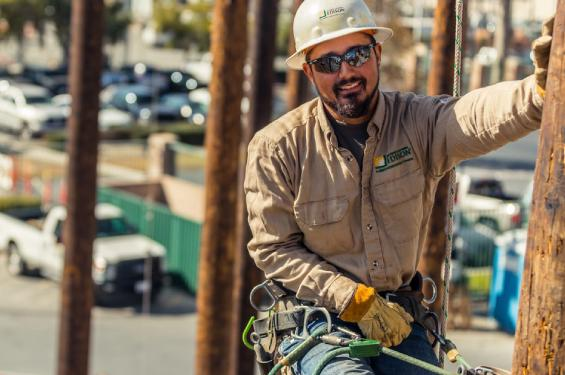helmet: (285, 1, 395, 72)
